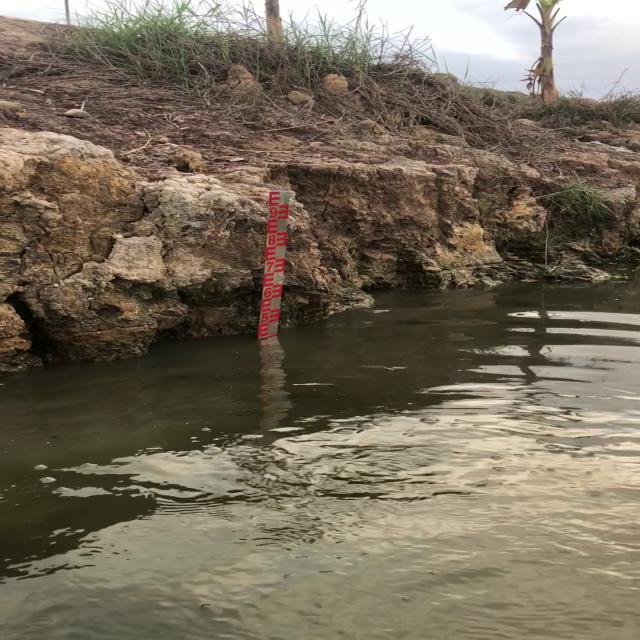ruler: (254, 186, 292, 340)
value: (268, 206, 280, 219), (264, 260, 276, 273), (266, 232, 276, 246), (263, 285, 273, 299)
